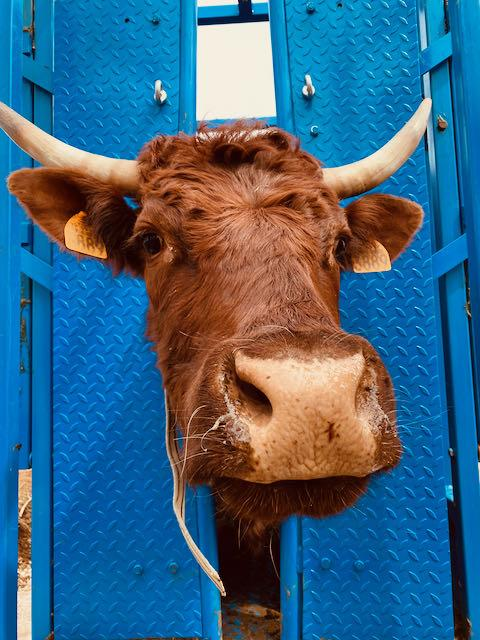muzzles: (166, 339, 404, 502)
